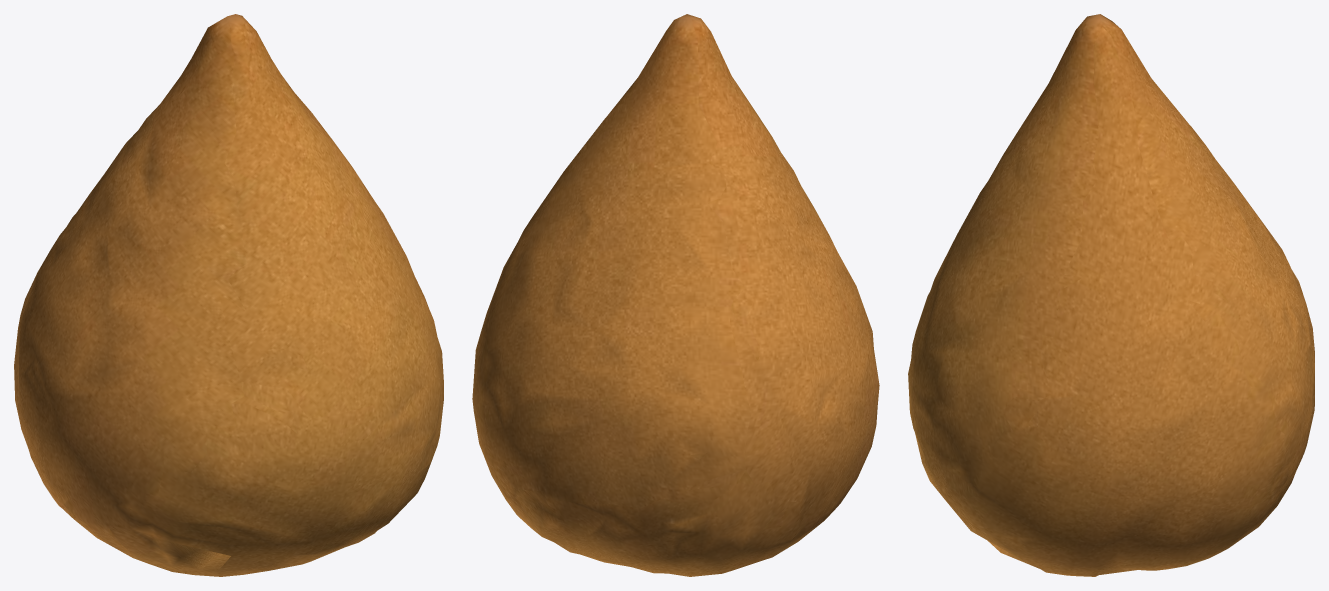
Rendered from coxinha.glb.
The picture shows the model from 3 angles, left to right: view 1: azimuth 30°, elevation 25°; view 2: azimuth 150°, elevation 25°; view 3: azimuth 270°, elevation 25°; orthographic projection. The views are drawn at different scales.
Visible parts, largest first — view 1: Coxinha; view 2: Coxinha; view 3: Coxinha.
Boxes of the visible parts, <box> form: Coxinha: <box>14,14,443,576</box>; Coxinha: <box>472,14,879,576</box>; Coxinha: <box>908,14,1314,576</box>.
Size of the model in its own units: 0.0556 by 0.0799 by 0.055.
1 material, 1 textured.
